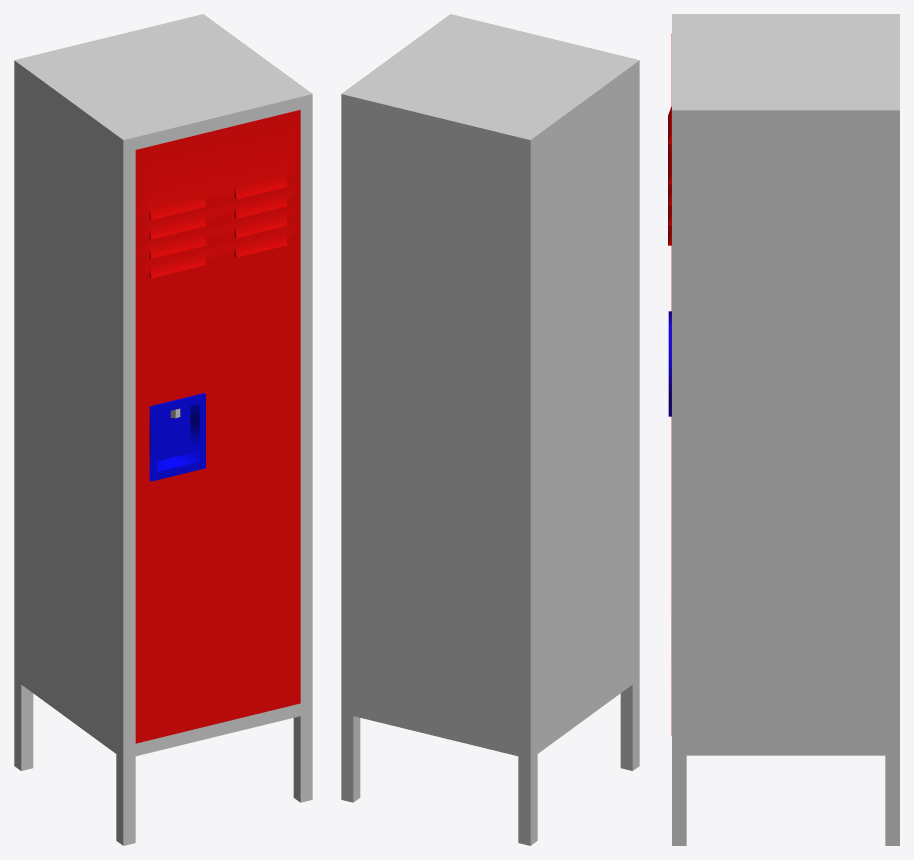
Rendered from Her_lockerclosed_ZW.fbx.
The picture shows the model from 3 angles, left to right: view 1: azimuth 30°, elevation 25°; view 2: azimuth 150°, elevation 25°; view 3: azimuth 270°, elevation 25°; orthographic projection. The views are drawn at different scales.
Parts seen in each view (by area): view 1: Box001, Object001; view 2: Box001; view 3: Box001, Object001.
Part boxes in pixels (x1,y1,x2,y2): Box001: [14, 14, 312, 845]; Object001: [135, 110, 300, 743]; Box001: [341, 14, 639, 845]; Box001: [672, 14, 899, 845]; Object001: [668, 34, 671, 735].
Size of the model in its own units: 16 by 57 by 16.28.
